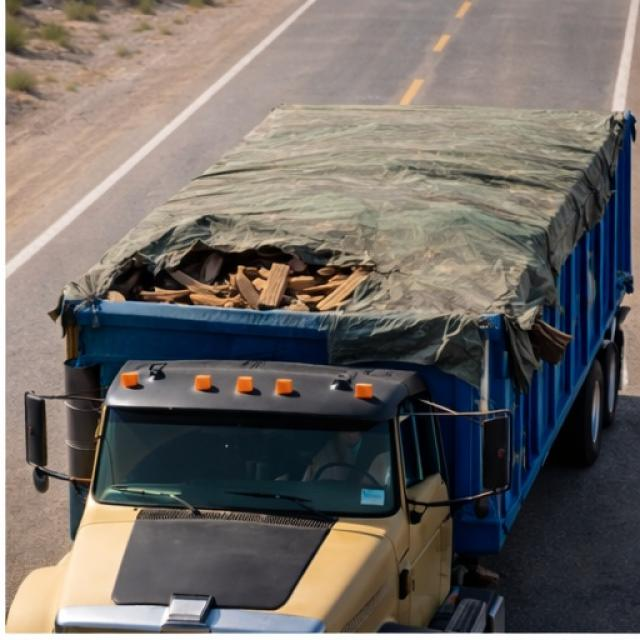trailer: (62, 114, 636, 318)
truck: (12, 87, 638, 637)
